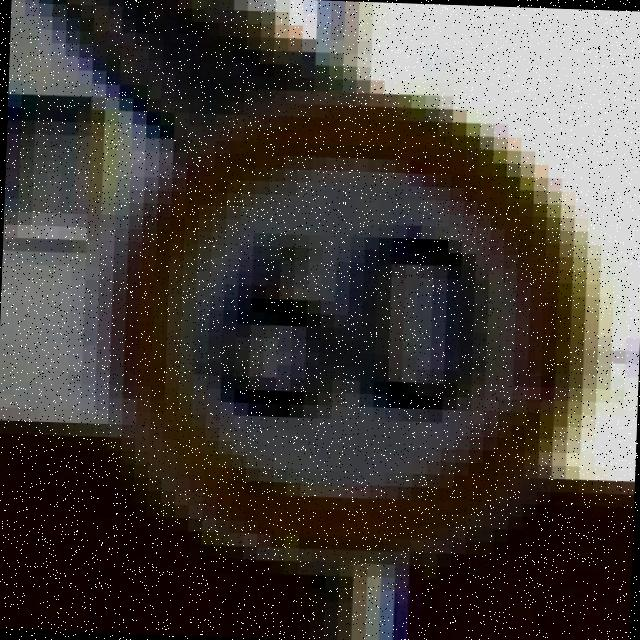Ograniczenie predkosci do 60: (36, 51, 640, 629)
